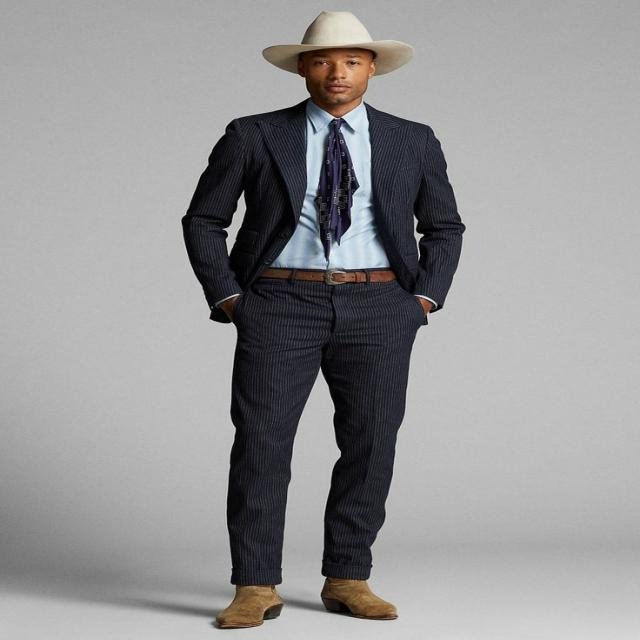male-dress: (199, 109, 464, 594)
